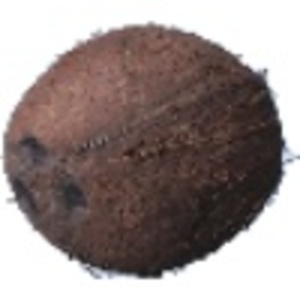coco: (3, 25, 300, 280)
